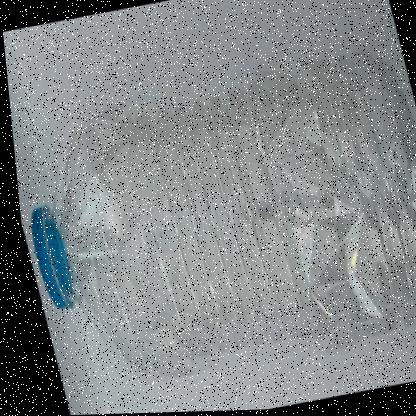bottle cap: (8, 87, 171, 405)
